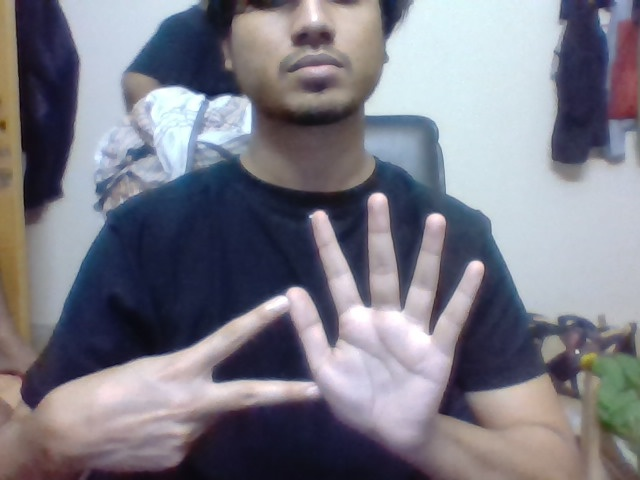N: (179, 290, 285, 418)
